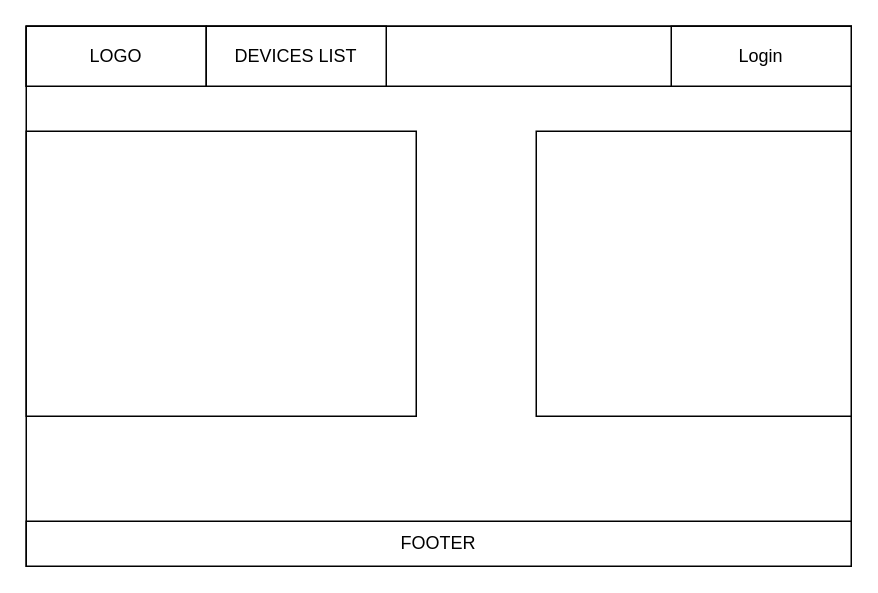
Some shapes in this 878 by 593 pixel diagram are drawn without their labels. Here are the shapes that lost their labels. From the top down, the centre of each, then its label:
At point 220,273: "CONTROL OPTIONS".
At point 693,273: "CONTROL HISTORY".
